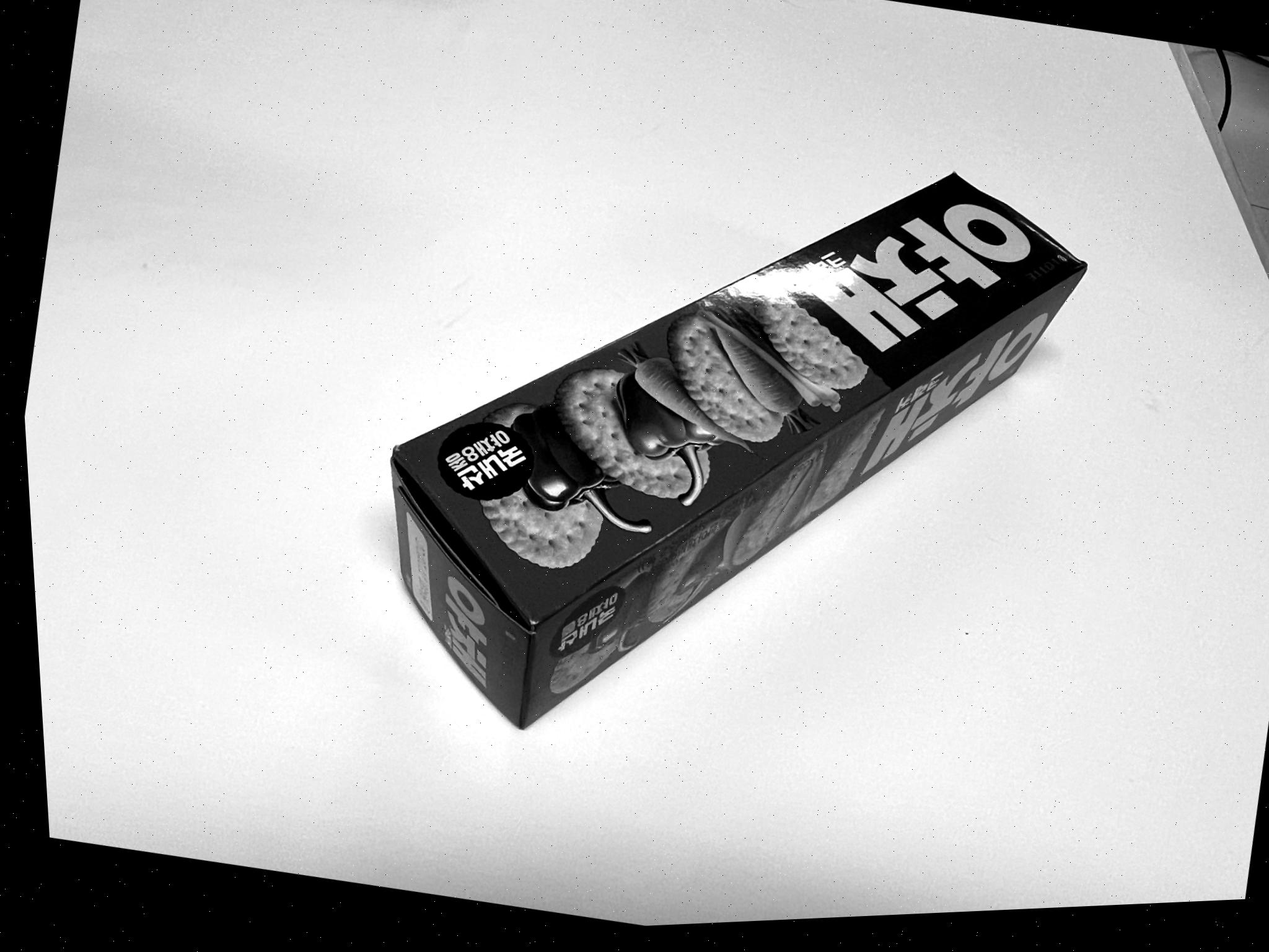cracker_vege: (388, 171, 1087, 729)
